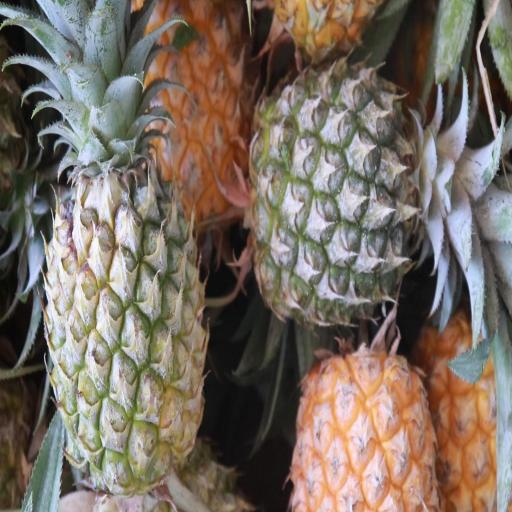Pineapple - v8 v1: (283, 339, 446, 512), (139, 0, 257, 232)
